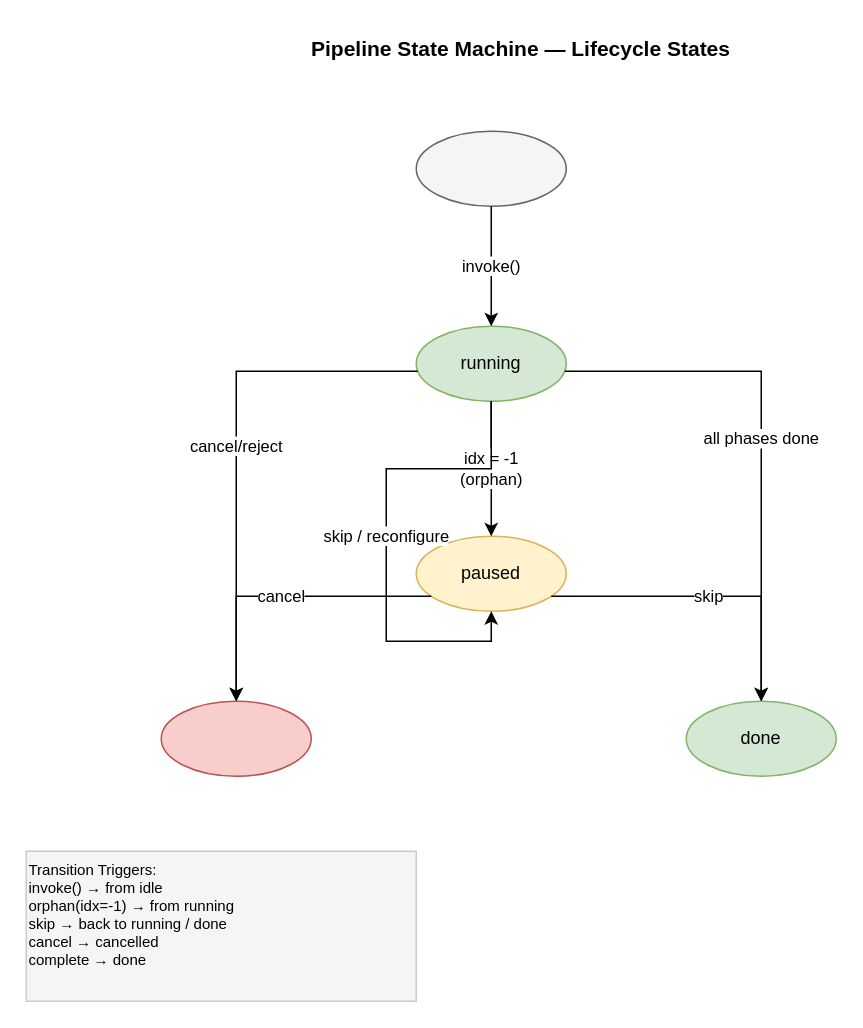
Some shapes in this 863 by 1028 pixel diagram are drawn without their labels. Each missing label, with the centre of its shape:
cancelled: the point at 235,738
idle: the point at 490,168
